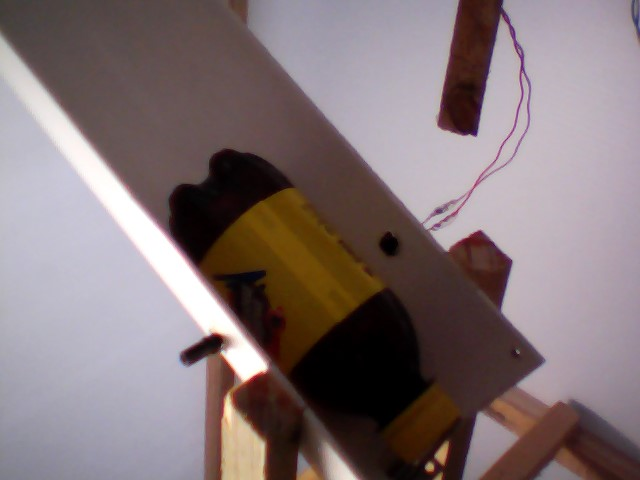plastico: (151, 145, 467, 467)
